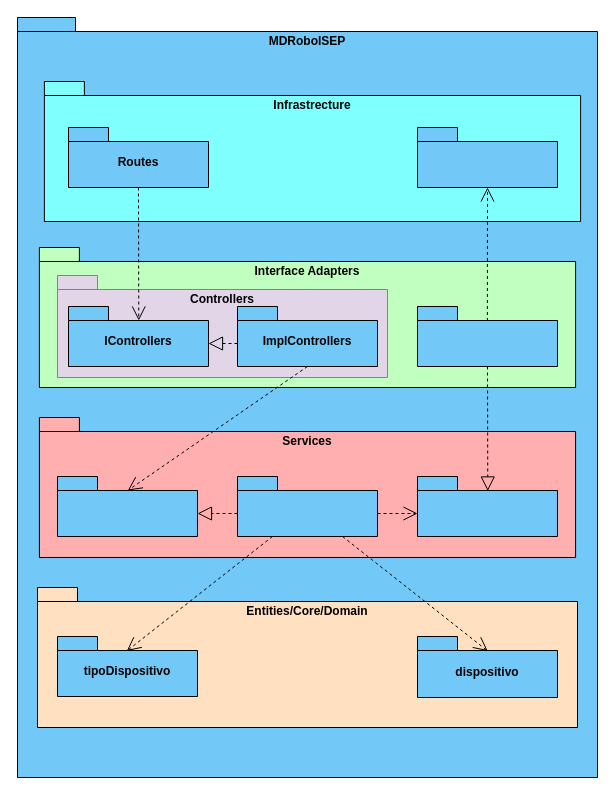
Some shapes in this 615 by 795 pixel diagram are drawn without their labels. The shapes that lost their labels are listed below. From the top down, each one's box as (x1, y1, x2, y2) in pixels, then its label:
(416, 126, 558, 188): Persistence
(416, 306, 558, 366): Repos
(56, 476, 198, 536): IServices
(236, 476, 378, 536): ImplServices
(416, 476, 558, 536): IRepos
